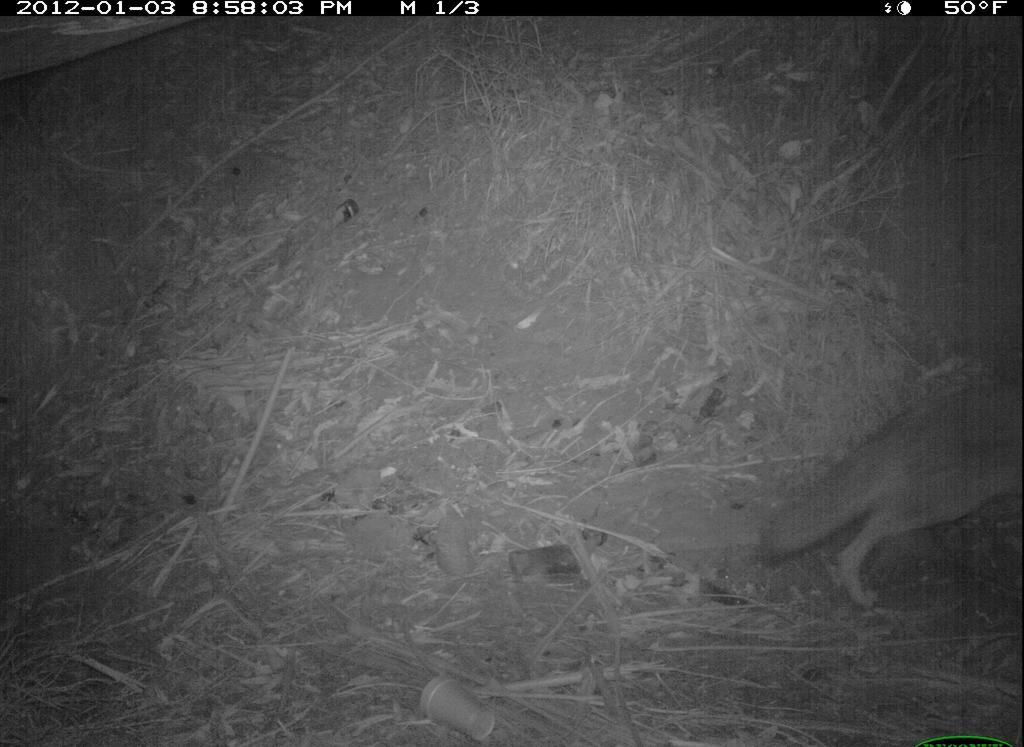coyote: (756, 350, 1013, 626)
